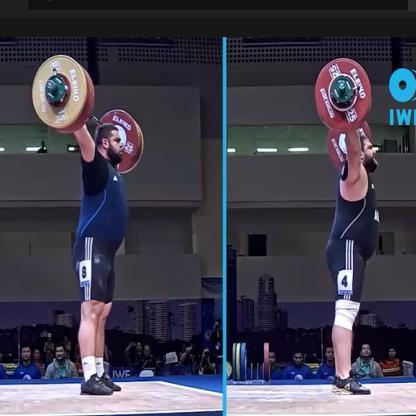barbell: (34, 52, 146, 175), (314, 58, 376, 165)
